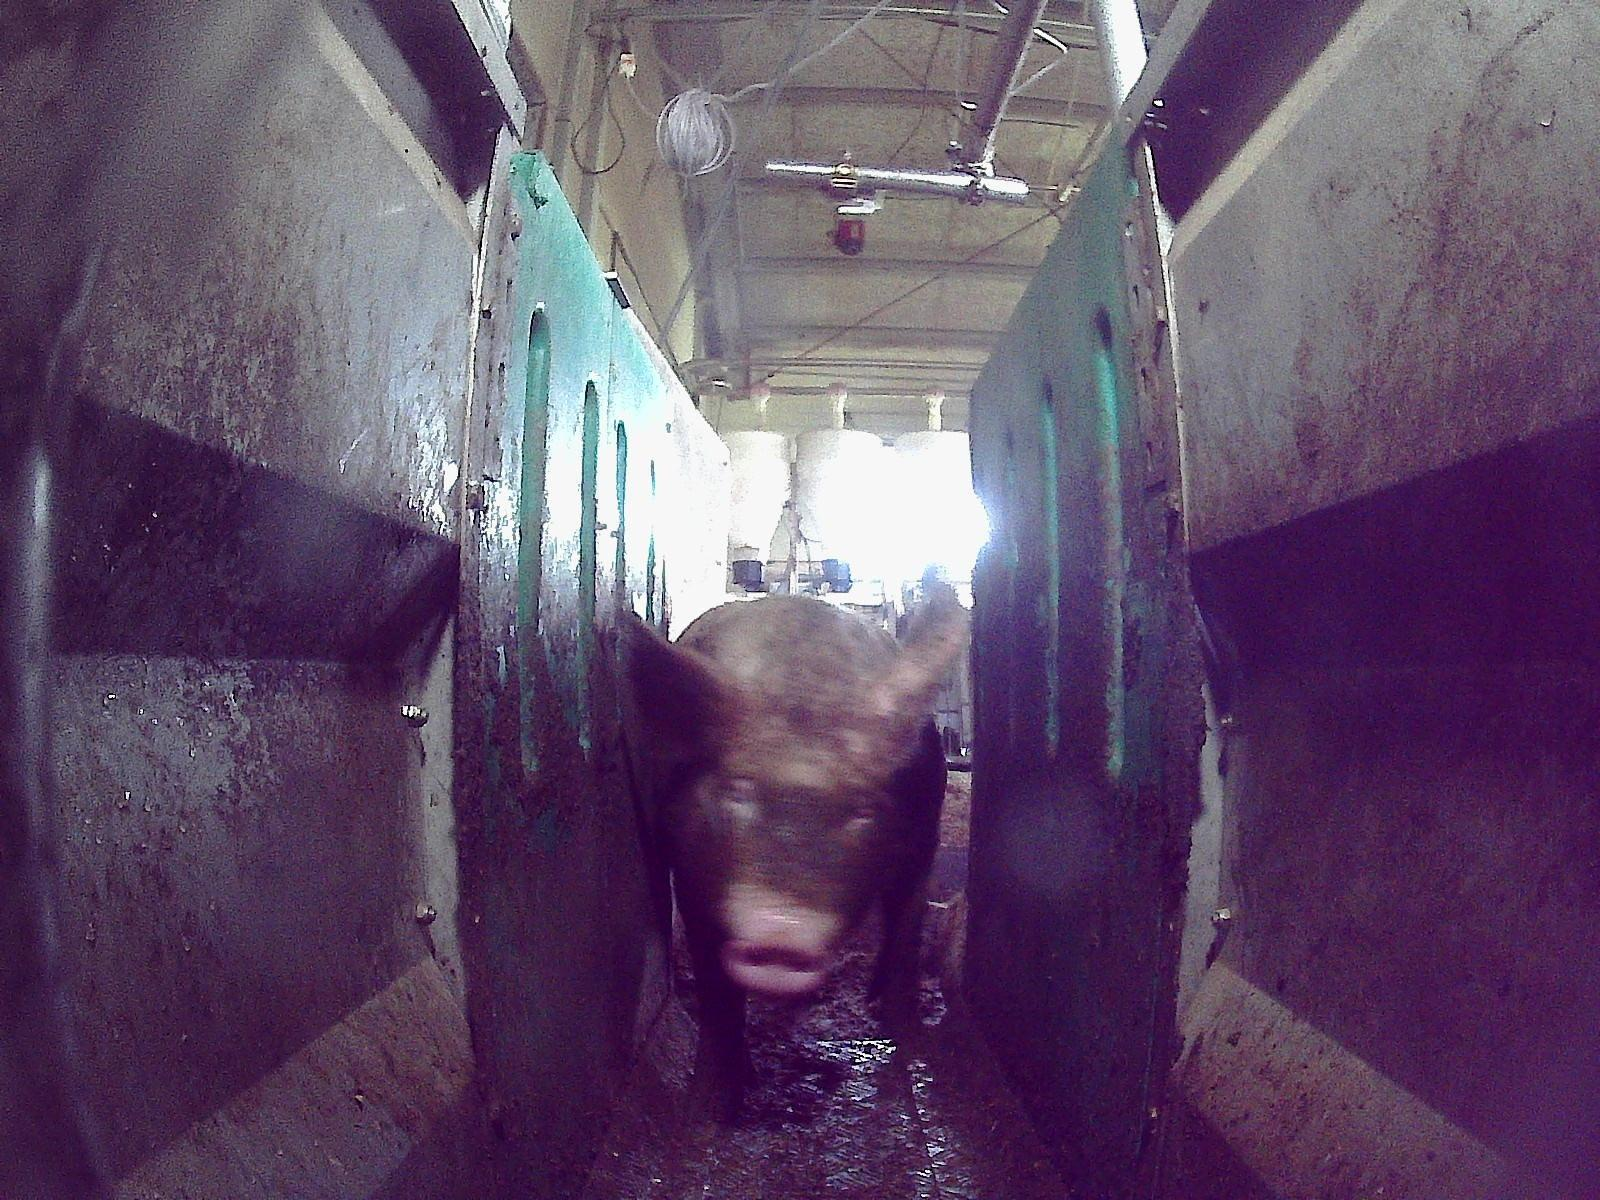Face: (680, 681, 902, 993)
